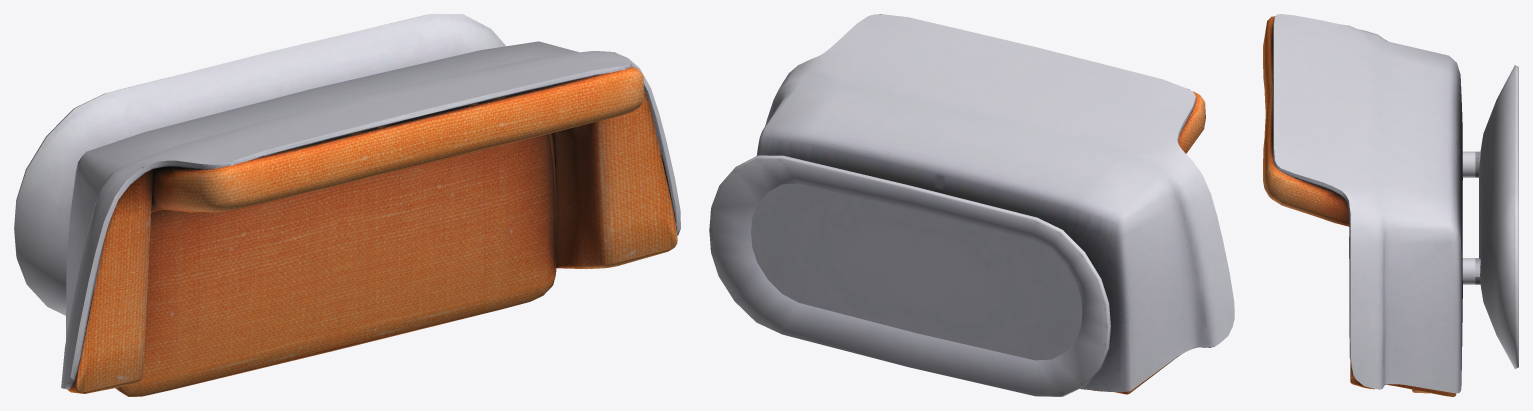
The model's file is nt_2020_space_couch_LOD0.obj.
3 views of the same model, side by side, from view 1: azimuth 30°, elevation 25°; view 2: azimuth 150°, elevation 25°; view 3: azimuth 270°, elevation 25° (orthographic). The views are drawn at different scales.
Visible parts, largest first — view 1: mtl_nt_2020_space_couch; view 2: mtl_nt_2020_space_couch; view 3: mtl_nt_2020_space_couch.
Part boxes in pixels (x1=…): mtl_nt_2020_space_couch: x1=14, y1=14, x2=680, y2=396; mtl_nt_2020_space_couch: x1=709, y1=14, x2=1234, y2=396; mtl_nt_2020_space_couch: x1=1263, y1=14, x2=1518, y2=396.
Size of the model in its own units: 206 by 100 by 98.75.
